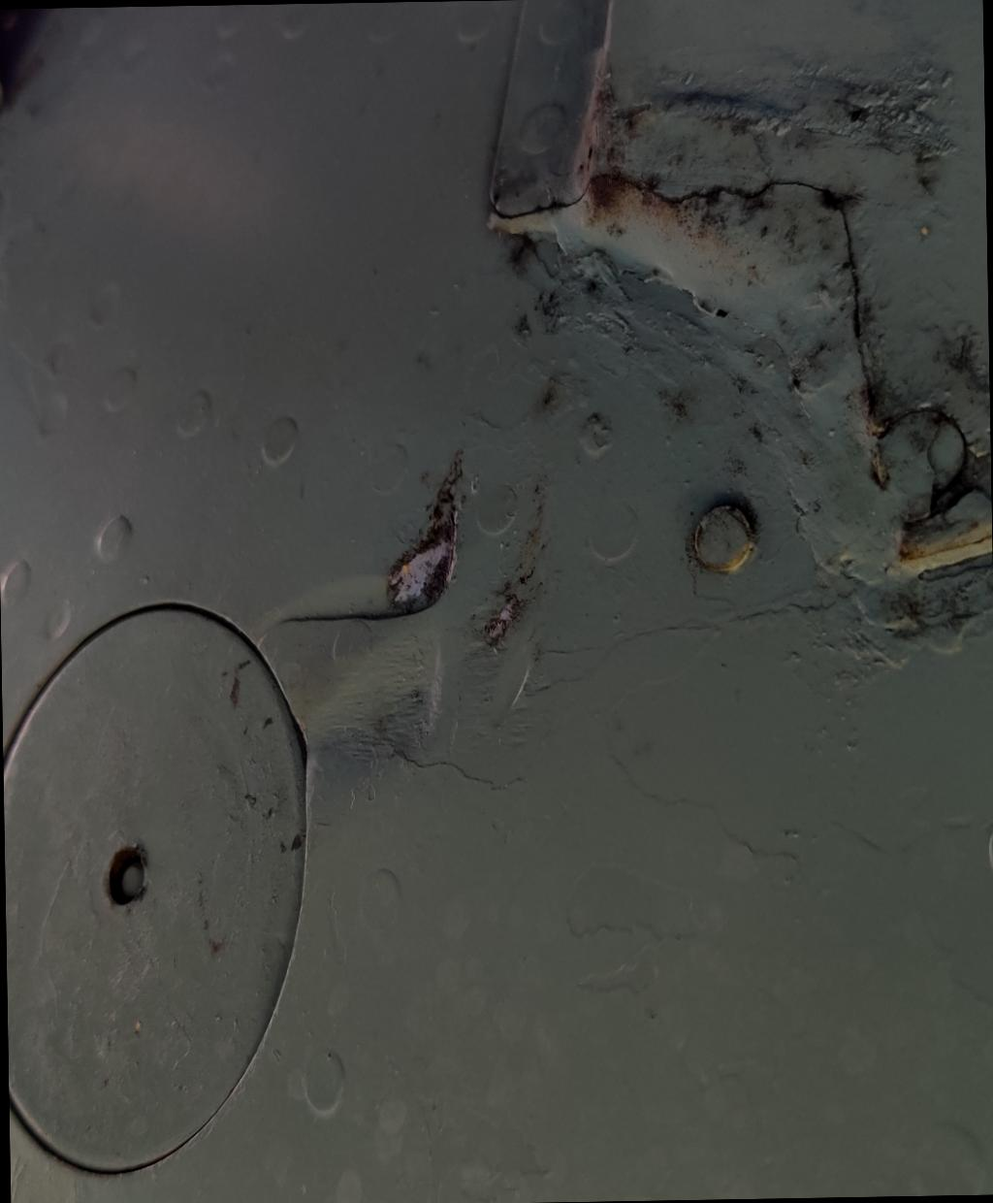corrosion: (570, 59, 714, 256), (367, 475, 474, 629)
